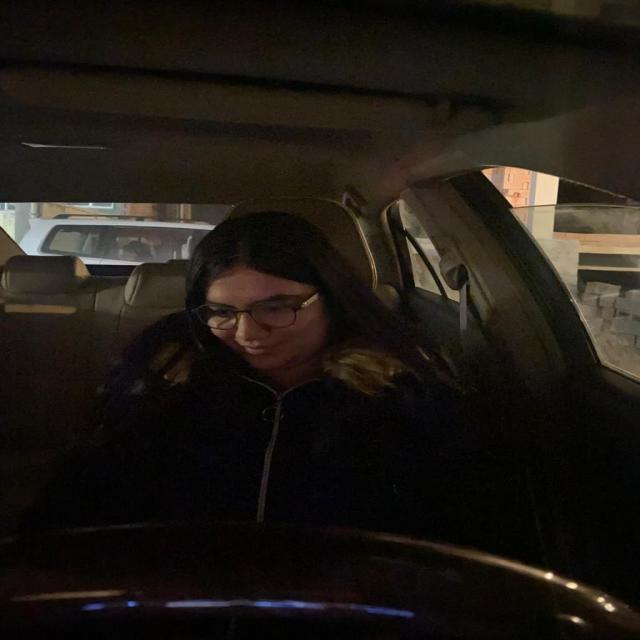person: (189, 213, 342, 399)
